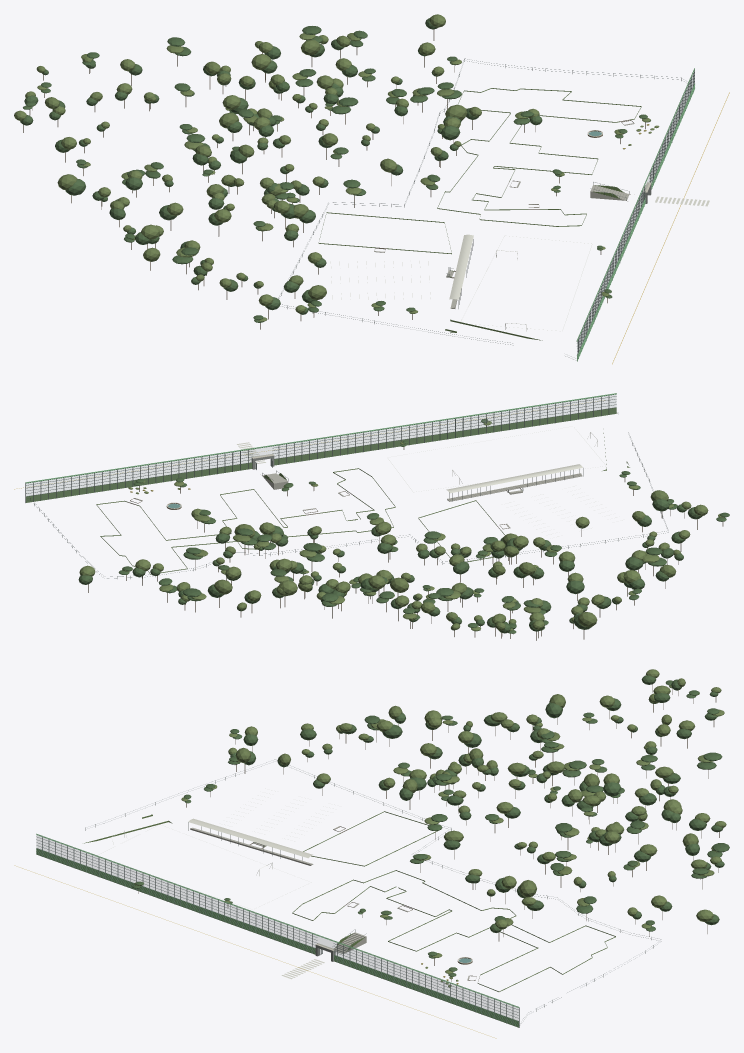
The picture shows the model from 3 angles, top to bottom: view 1: azimuth 30°, elevation 25°; view 2: azimuth 150°, elevation 25°; view 3: azimuth 270°, elevation 25°; orthographic projection. The views are drawn at different scales.
Parts seen in each view (by area): view 1: planting_mixed-trees, facility_road-sound-wall, facility_terrain-contour-join, facility_open-field-canopy, facility_boundary-fence; view 2: planting_mixed-trees, facility_road-sound-wall, facility_terrain-contour-join, facility_open-field-canopy, facility_stand-tiered, facility_boundary-fence, facility_road-markings; view 3: planting_mixed-trees, facility_road-sound-wall, facility_terrain-contour-join, facility_open-field-canopy, facility_road-markings.
Part boxes in pixels (left/top/right/bottom): planting_mixed-trees: left=14, top=14, right=650, bottom=329; facility_road-sound-wall: left=576, top=68, right=694, bottom=361; facility_terrain-contour-join: left=318, top=88, right=641, bottom=340; facility_open-field-canopy: left=449, top=234, right=473, bottom=308; facility_boundary-fence: left=278, top=58, right=684, bottom=360; planting_mixed-trees: left=78, top=419, right=729, bottom=640; facility_road-sound-wall: left=25, top=393, right=616, bottom=502; facility_terrain-contour-join: left=96, top=433, right=629, bottom=574; facility_open-field-canopy: left=446, top=464, right=583, bottom=501; facility_stand-tiered: left=447, top=473, right=582, bottom=501; facility_boundary-fence: left=26, top=413, right=668, bottom=578; facility_road-markings: left=14, top=400, right=604, bottom=489; planting_mixed-trees: left=132, top=669, right=729, bottom=981; facility_road-sound-wall: left=36, top=833, right=519, bottom=1027; facility_terrain-contour-join: left=84, top=811, right=615, bottom=991; facility_open-field-canopy: left=188, top=818, right=312, bottom=860; facility_road-markings: left=14, top=865, right=496, bottom=1038.
Bounding box in the file's own units: 208 × 26.28 × 208.
Materials: 17 (4 with a texture image).
